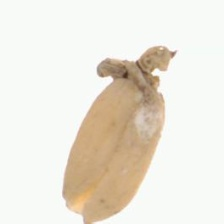L1: (108, 47, 174, 109), (60, 191, 111, 223)
L2: (60, 47, 171, 222)
